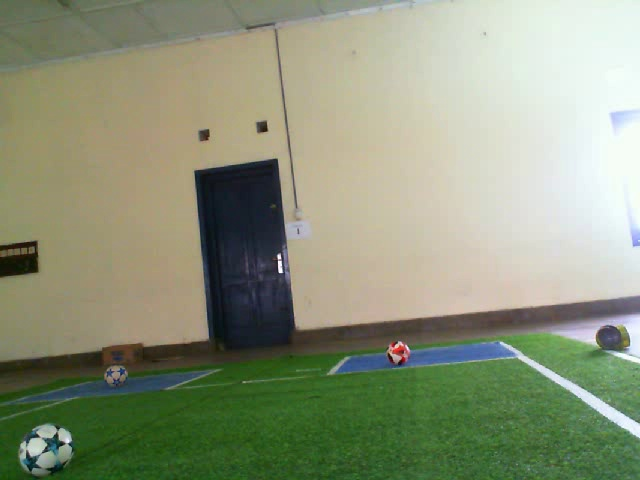ball: (16, 420, 78, 480), (384, 338, 416, 367), (101, 361, 131, 391)
